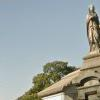Statue: (65, 3, 100, 72)
